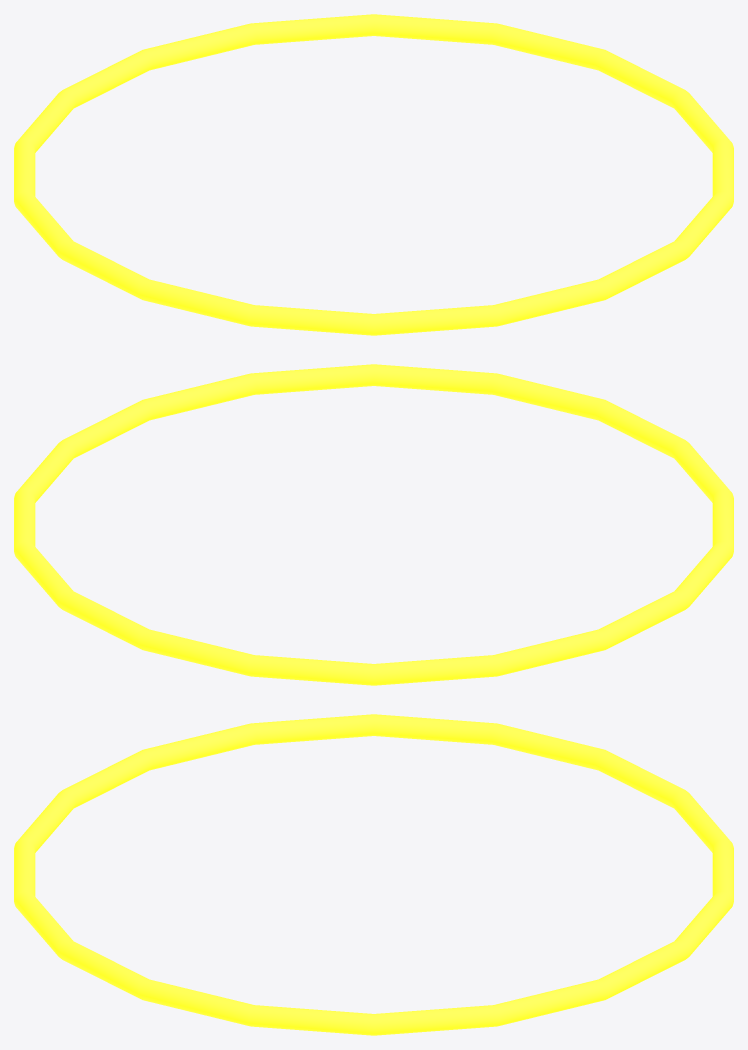
File: target_position.glb
3 renders of one model, top to bottom at view 1: azimuth 30°, elevation 25°; view 2: azimuth 150°, elevation 25°; view 3: azimuth 270°, elevation 25°, orthographic.
Visible parts, largest first — view 1: node_Circle; view 2: node_Circle; view 3: node_Circle.
Boxes of the visible parts, bbox=[...] form: node_Circle: bbox=[14, 14, 733, 335]; node_Circle: bbox=[14, 364, 733, 685]; node_Circle: bbox=[14, 714, 733, 1035].
Size of the model in its own units: 0.0268 by 0.0008 by 0.0264.
